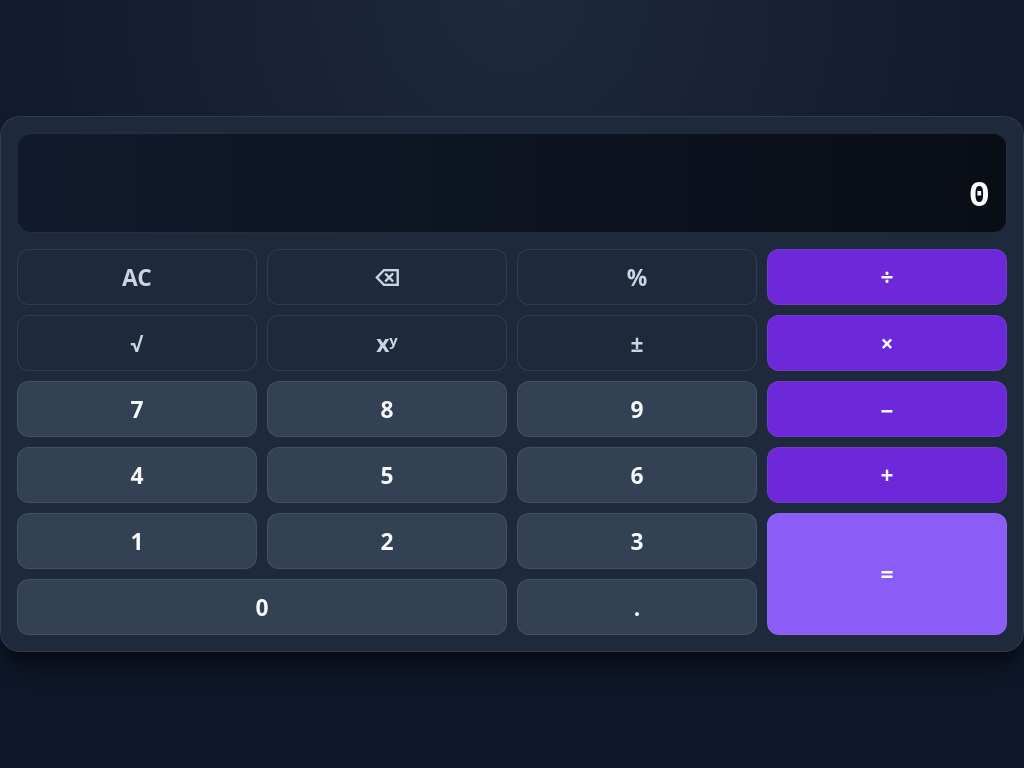
Test: Calculator integration (UI + useCalculator + API client) › displays the backend error message on `8 ÷ 0 =` and recovers when a digit is pressed
Click the button "8" at (387, 409), box x1=267 y1=381 x2=507 y2=437
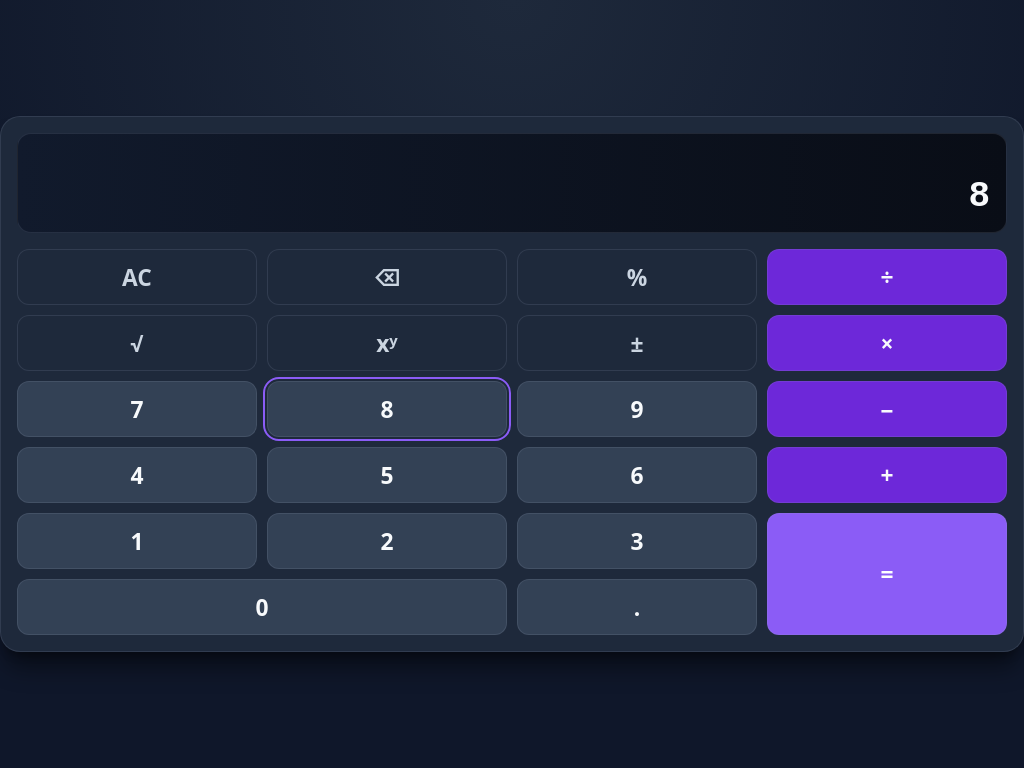
Click the button named "divide" at (887, 277), box x1=767 y1=249 x2=1007 y2=305
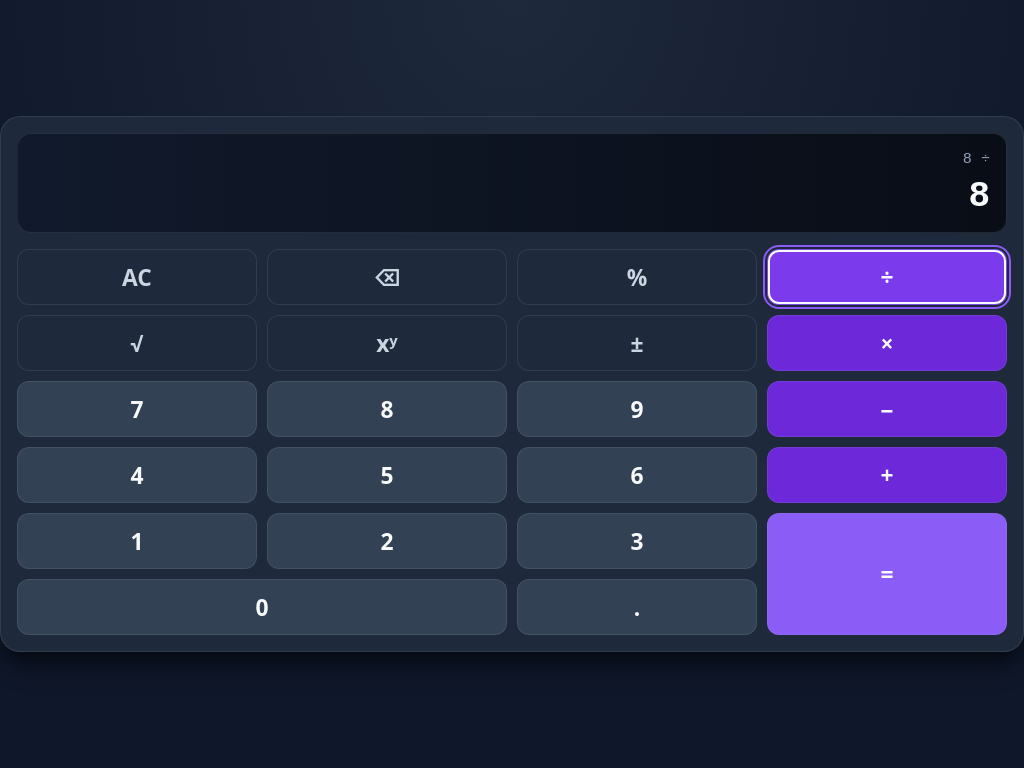
Click the button "0" at (262, 607), box x1=17 y1=579 x2=507 y2=635
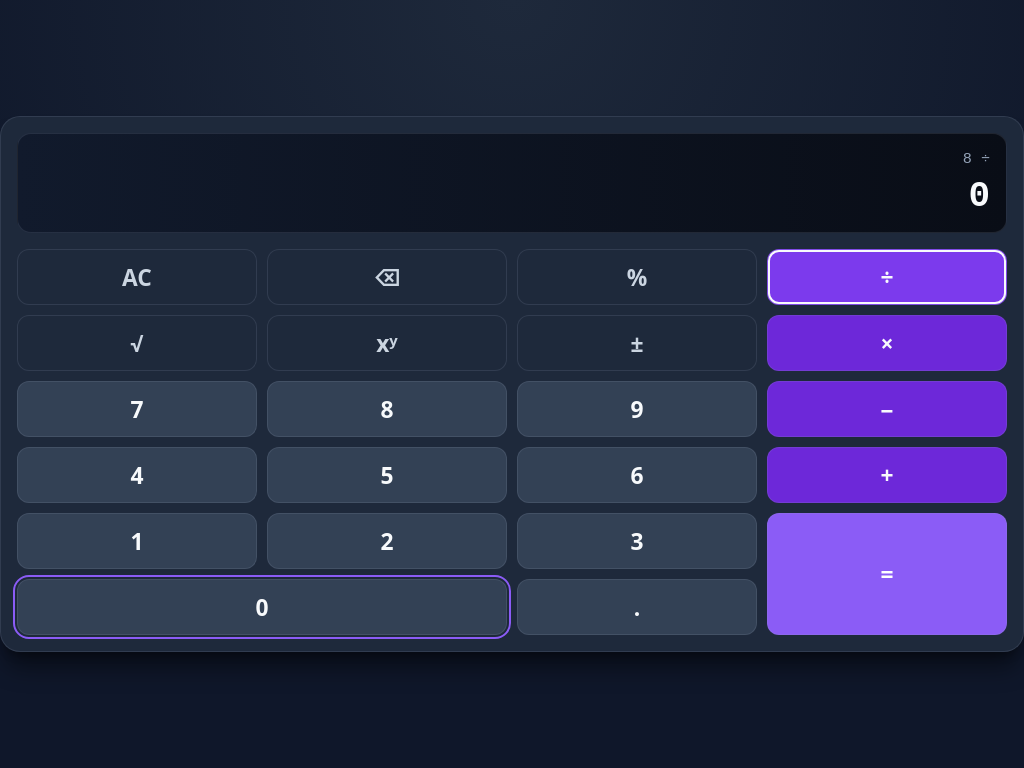
Click the button named "equals" at (887, 574), box x1=767 y1=513 x2=1007 y2=635
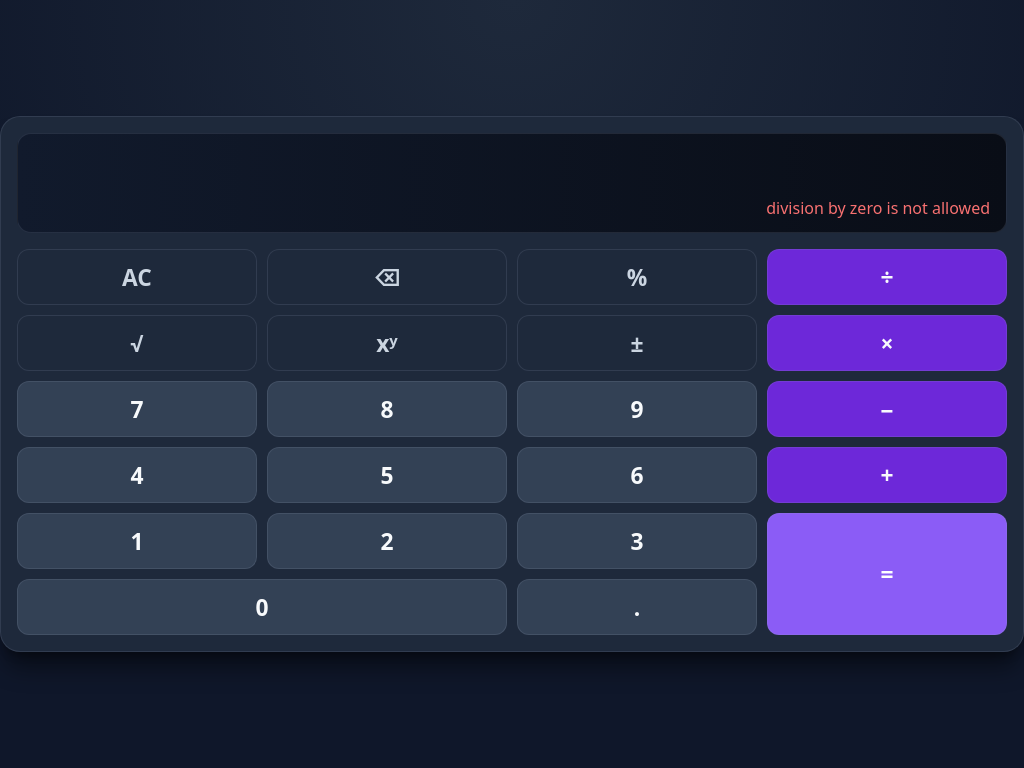
Check: the text with test id "calculator-display" reads "division by zero is not allowed", box x1=766 y1=197 x2=990 y2=219
# Pressing a digit clears the error and starts a new entry
Click the button "4" at (137, 475), box x1=17 y1=447 x2=257 y2=503
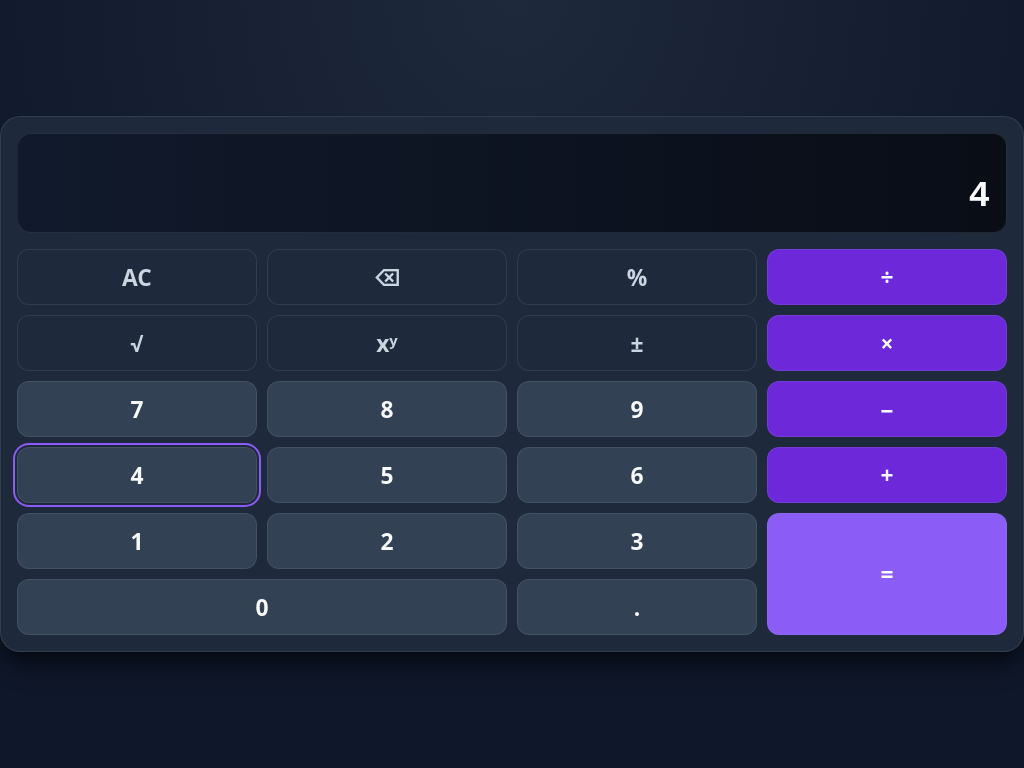
Check: the text with test id "calculator-display" reads "4", box x1=968 y1=176 x2=990 y2=217
